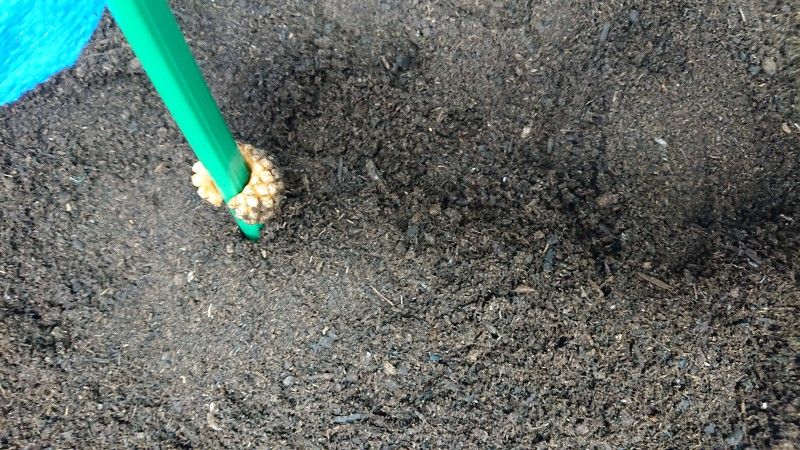eggs: (182, 135, 292, 241)
